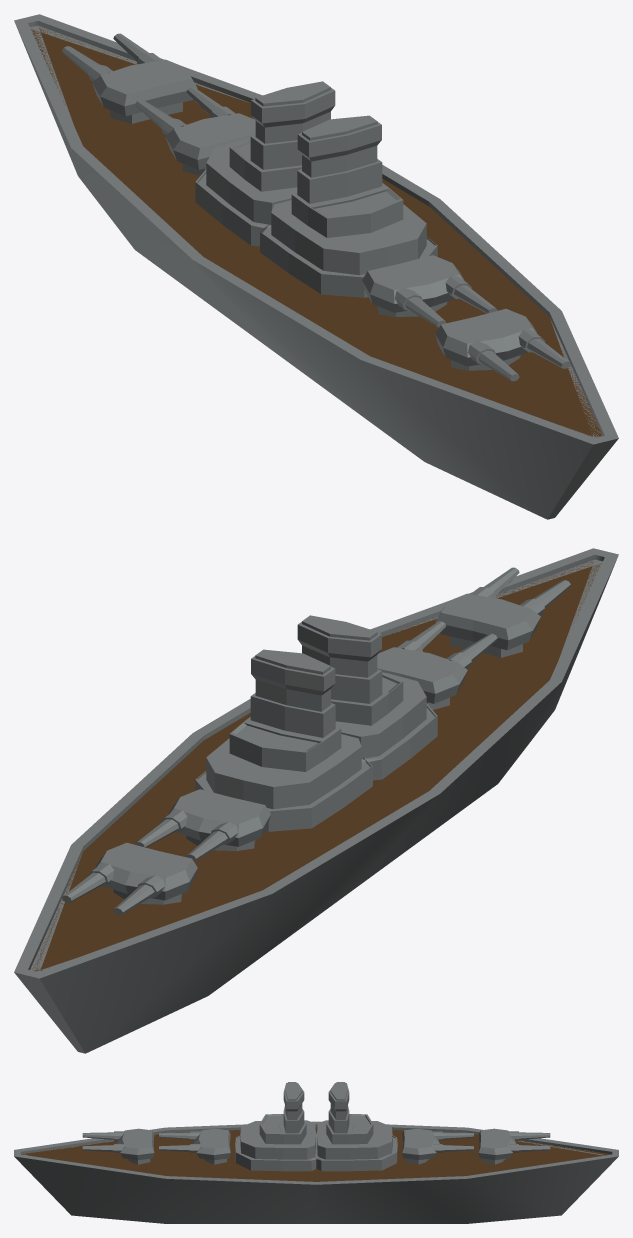
The model's file is BattleshipC.fbx.
The picture shows the model from 3 angles, top to bottom: view 1: azimuth 30°, elevation 25°; view 2: azimuth 150°, elevation 25°; view 3: azimuth 270°, elevation 25°; orthographic projection. The views are drawn at different scales.
Visible parts, largest first — view 1: Battleship; view 2: Battleship; view 3: Battleship.
Part boxes in pixels (x1=…): Battleship: x1=14, y1=14, x2=618, y2=519; Battleship: x1=14, y1=548, x2=618, y2=1053; Battleship: x1=14, y1=1082, x2=618, y2=1223.
Size of the model in its own units: 84.37 by 77.23 by 342.
